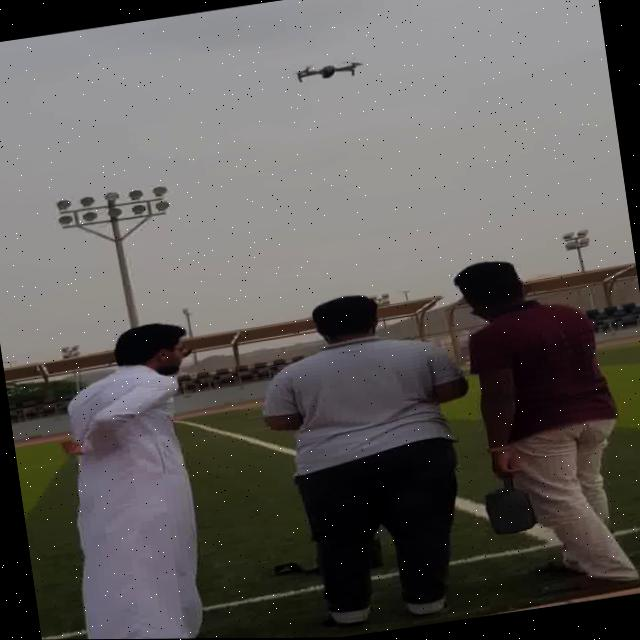drone: (282, 56, 370, 89)
